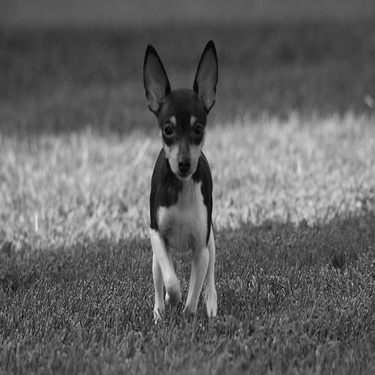dog: (126, 27, 231, 327)
